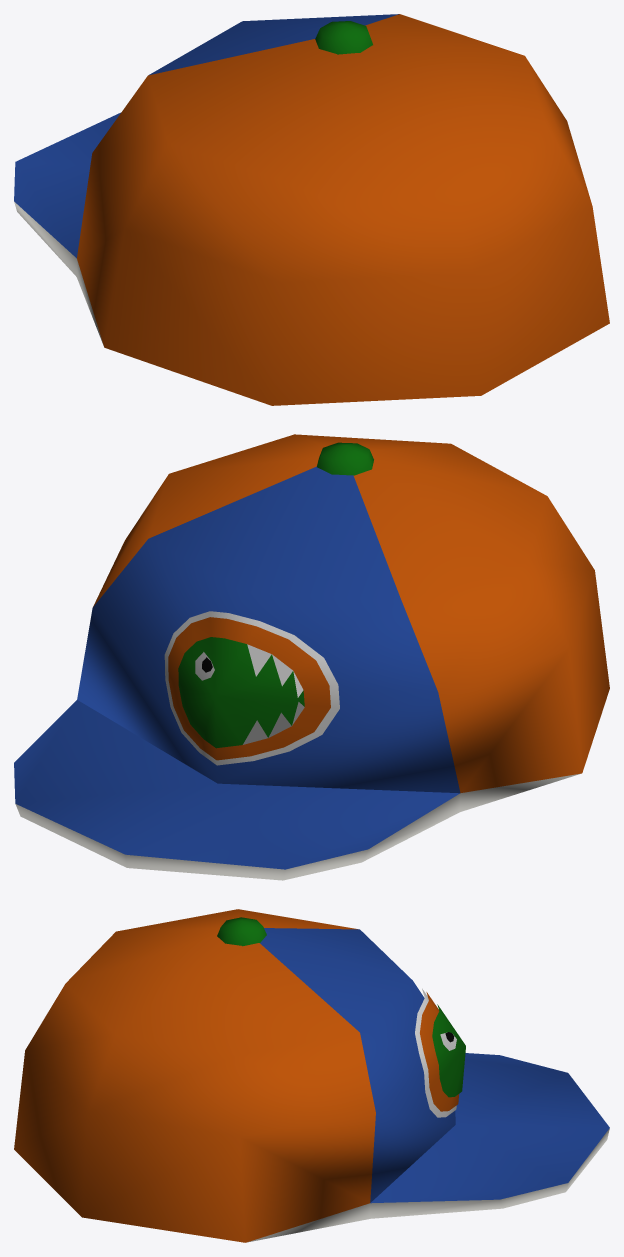
File: hat_gators.glb
3 renders of one model, top to bottom at view 1: azimuth 30°, elevation 25°; view 2: azimuth 150°, elevation 25°; view 3: azimuth 270°, elevation 25°, orthographic. The views are drawn at different scales.
Parts seen in each view (by area): view 1: hat_gators; view 2: hat_gators; view 3: hat_gators.
Boxes of the visible parts, x1=… form: hat_gators: x1=14, y1=14, x2=609, y2=405; hat_gators: x1=14, y1=434, x2=609, y2=880; hat_gators: x1=14, y1=909, x2=609, y2=1242.
Bounding box in the file's own units: 0.3688 × 0.2042 × 0.4746.
